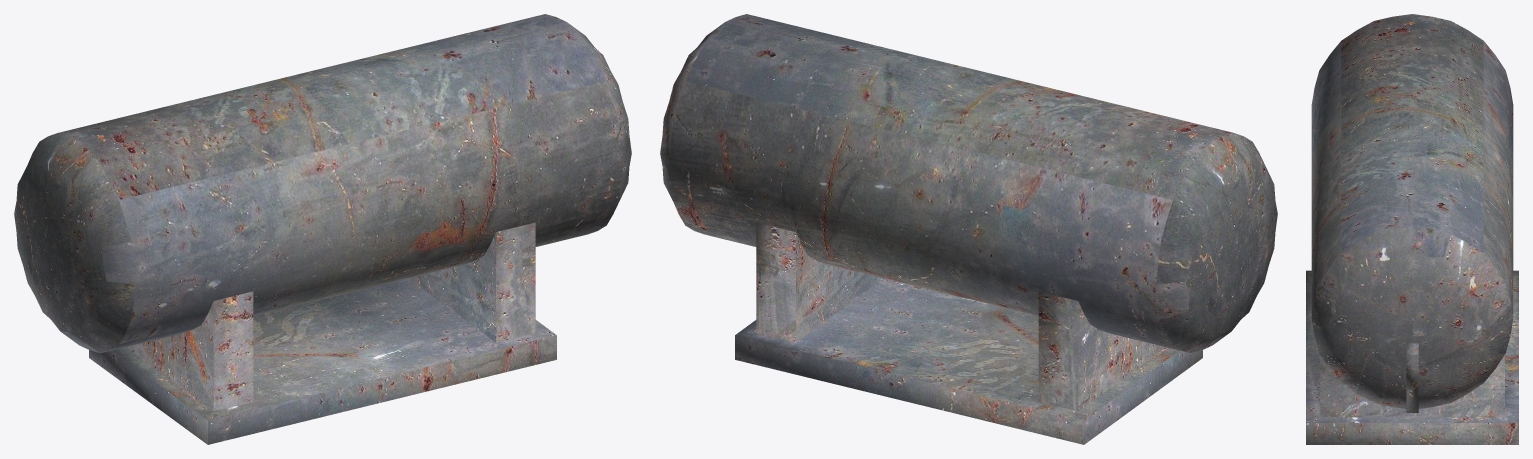
File: fueltank.fbx
3 views of the same model, side by side, from view 1: azimuth 30°, elevation 25°; view 2: azimuth 150°, elevation 25°; view 3: azimuth 270°, elevation 25° (orthographic). The views are drawn at different scales.
Visible parts, largest first — view 1: LoPolyTank; view 2: LoPolyTank; view 3: LoPolyTank.
Part boxes in pixels (<box>): LoPolyTank: <box>14,14,631,444</box>; LoPolyTank: <box>660,14,1277,444</box>; LoPolyTank: <box>1306,14,1518,444</box>.
Size of the model in its own units: 5.76 by 2.67 by 2.07.
